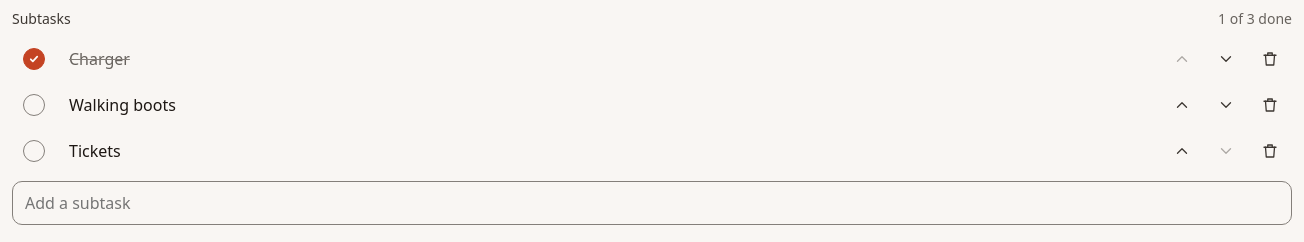
Test case: SubtaskList › deletes a subtask
Click the button named "Delete Walking boots" at {"x": 1270, "y": 105}, box [1248,83,1292,127]
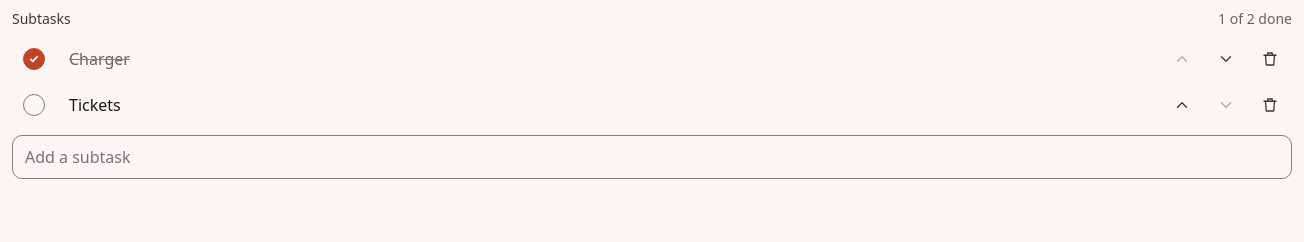
Check: the text "1 of 2 done" is shown, box [1218,8,1292,29]
